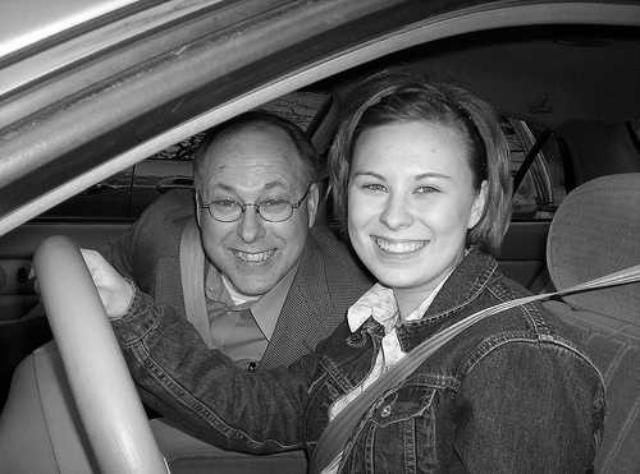SafeDriving: (407, 174, 449, 200), (354, 172, 393, 198), (258, 188, 293, 214), (208, 191, 242, 214)
Seatbelt: (305, 257, 639, 474), (174, 216, 216, 352)
